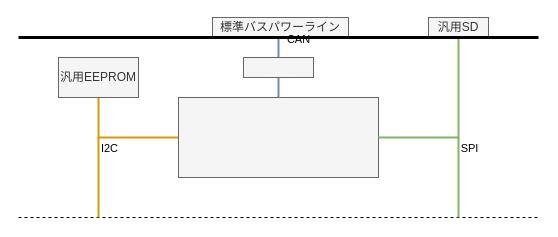
The diagram is 558 pixels wide and 237 high, and some of its shapes have lost their labels. Here are the shapes that lost their labels. From the top down, the box of each, then its label:
(242, 56, 314, 78): MCP2562
(178, 96, 378, 178): Nucleo STM32F303K8T6
